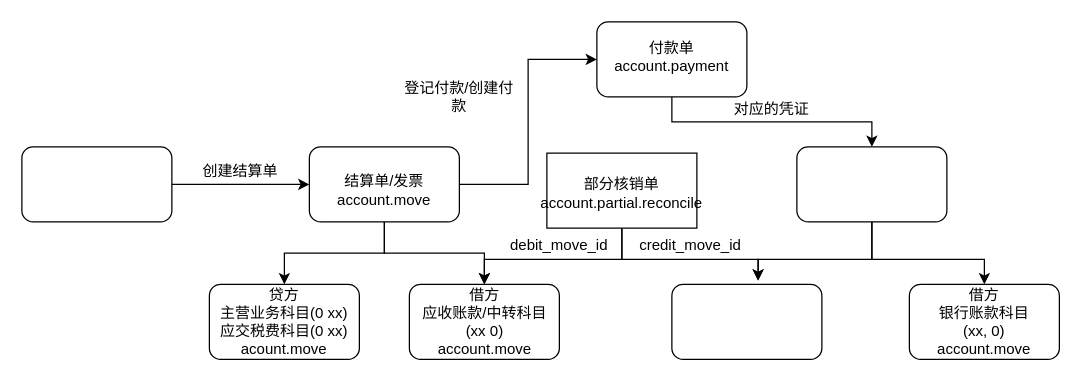
Image size: 1081x381. Some labels were removed from this diagram. The shapes that lost their labels are listed below. From the top down, each one's box as (x1, y1, x2, y2) in pixels, then its label:
(21, 146, 172, 222): 销售订单
(796, 146, 947, 222): 付款单凭证 account.move
(671, 283, 822, 359): 贷方 应收账款/中转科目 （0, xx） account.move
